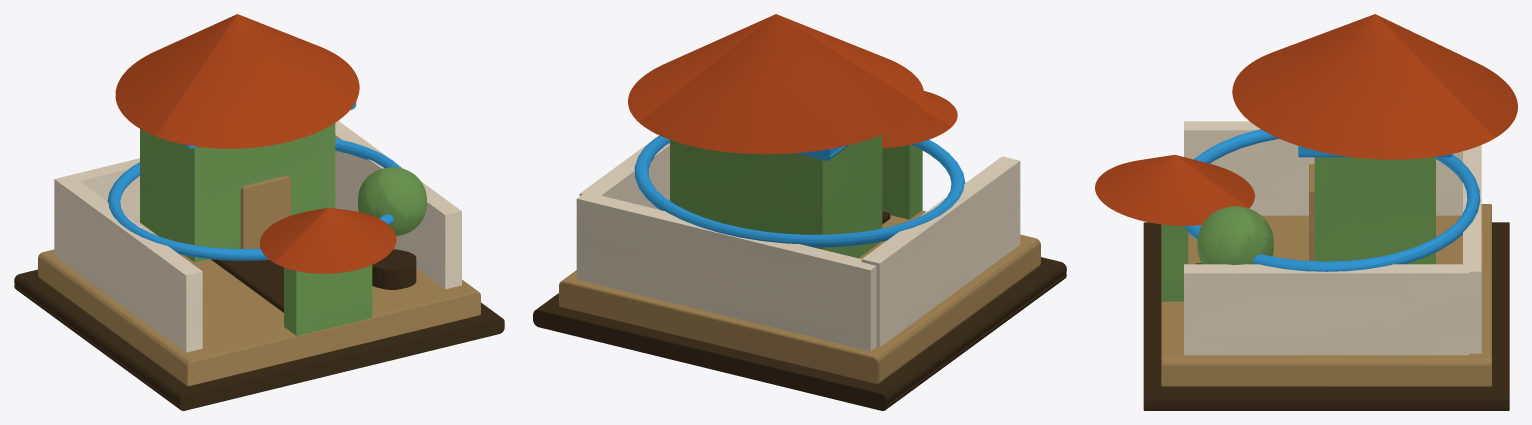
The model's file is 0863_生活中的数学图鉴_古埃及绳结.glb.
The picture shows the model from 3 angles, left to right: view 1: azimuth 30°, elevation 25°; view 2: azimuth 150°, elevation 25°; view 3: azimuth 270°, elevation 25°; orthographic projection. The views are drawn at different scales.
Visible parts, largest first — view 1: card_0863; view 2: card_0863; view 3: card_0863.
Boxes of the visible parts, left/top/right/bottom form: card_0863: left=14, top=14, right=504, bottom=410; card_0863: left=533, top=14, right=1066, bottom=410; card_0863: left=1095, top=14, right=1517, bottom=410.
Size of the model in its own units: 1.21 by 1 by 1.23.
